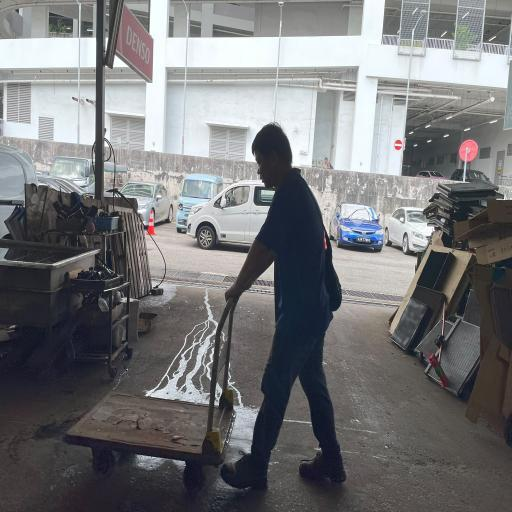person_left: (76, 122, 356, 494)
